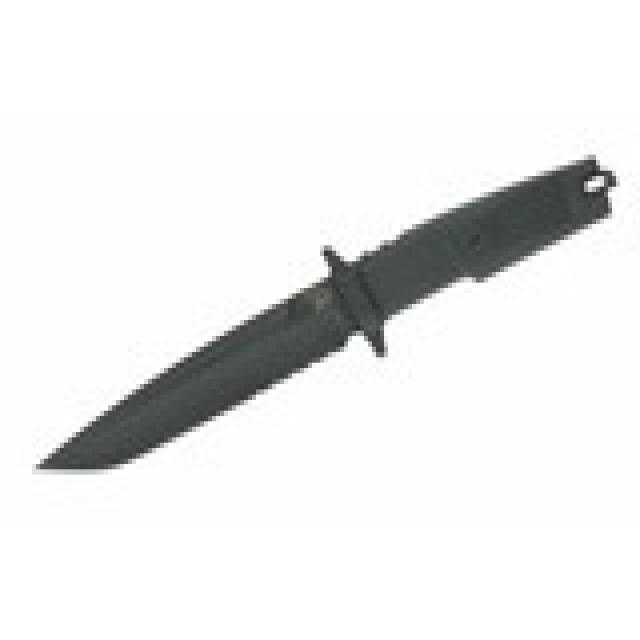Knife: (26, 132, 624, 516)
